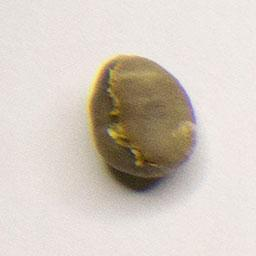peaberry: (84, 50, 200, 185)
